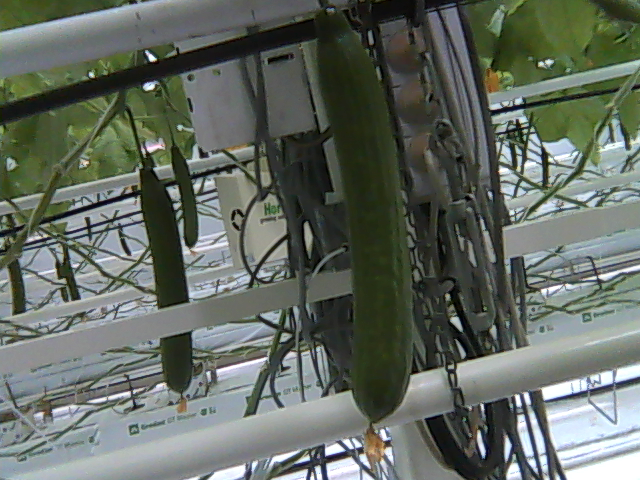concombre: (307, 1, 416, 466)
